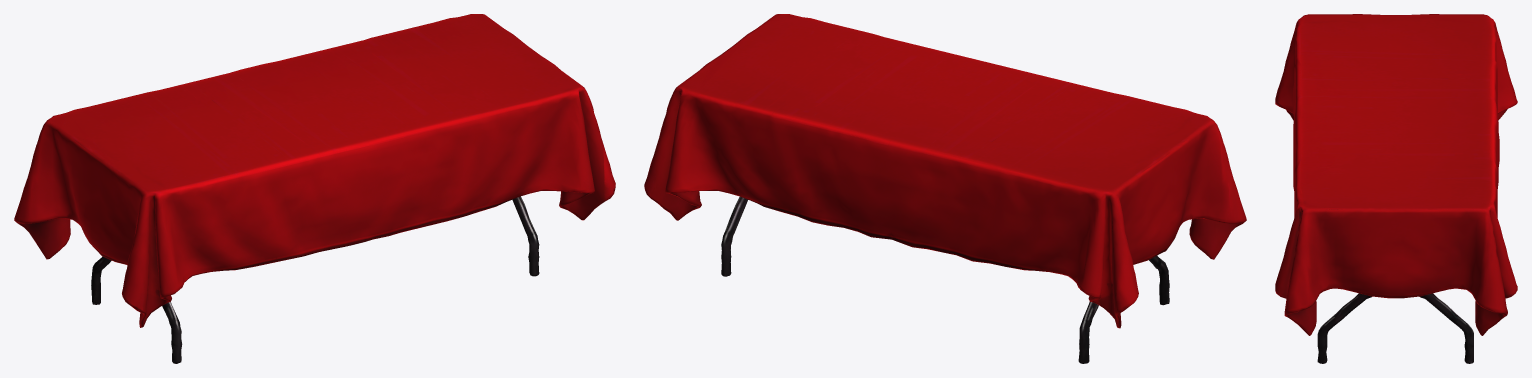
The model's file is BNQ_TBL_RED_HALF_DROP_0630193913_texture.glb.
3 views of the same model, side by side, from view 1: azimuth 30°, elevation 25°; view 2: azimuth 150°, elevation 25°; view 3: azimuth 270°, elevation 25° (orthographic). The views are drawn at different scales.
Parts seen in each view (by area): view 1: Mesh_0.001; view 2: Mesh_0.001; view 3: Mesh_0.001.
Boxes of the visible parts, x1,y1,x2,y2 form: Mesh_0.001: [14, 14, 615, 363]; Mesh_0.001: [644, 14, 1246, 363]; Mesh_0.001: [1275, 14, 1517, 363].
Size of the model in its own units: 2.1 by 0.762 by 0.9816.
1 material, 1 textured.
